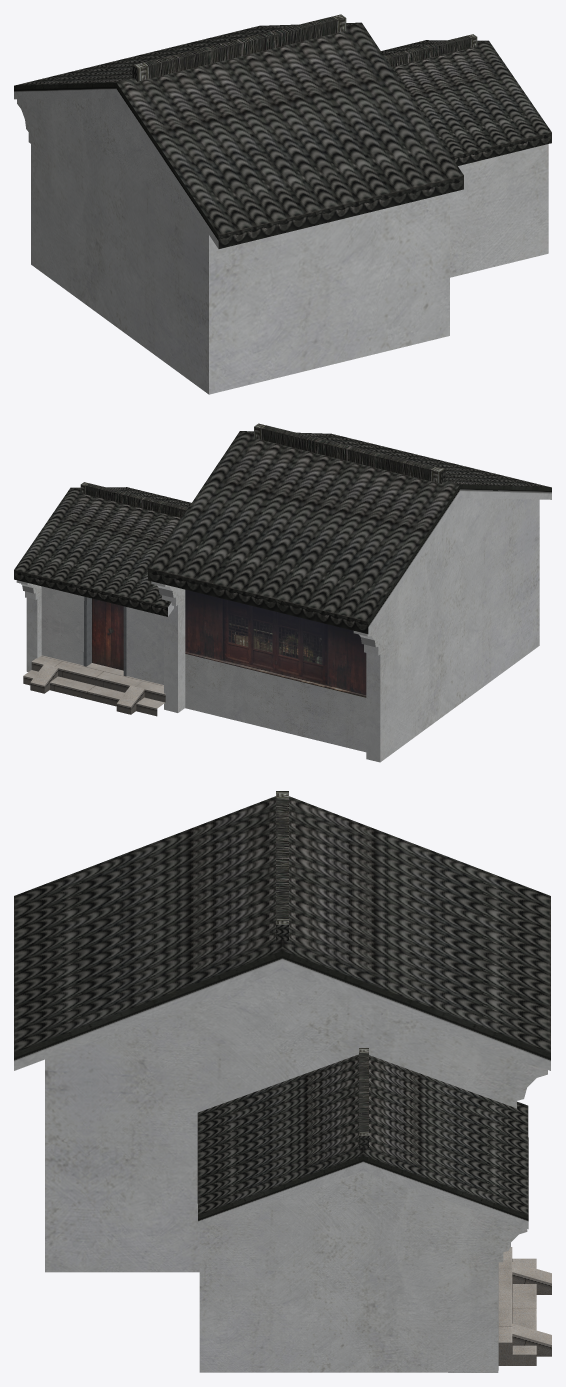
File: Building_MinJu02.FBX
3 views of the same model, one above another, from view 1: azimuth 30°, elevation 25°; view 2: azimuth 150°, elevation 25°; view 3: azimuth 270°, elevation 25° (orthographic). The views are drawn at different scales.
Parts seen in each view (by area): view 1: Object019; view 2: Object019; view 3: Object019.
Part boxes in pixels (left/top/right/bottom): Object019: left=14, top=14, right=551, bottom=394; Object019: left=14, top=423, right=551, bottom=762; Object019: left=14, top=791, right=551, bottom=1372.
Bounding box in the file's own units: 1118 × 984 × 682.
